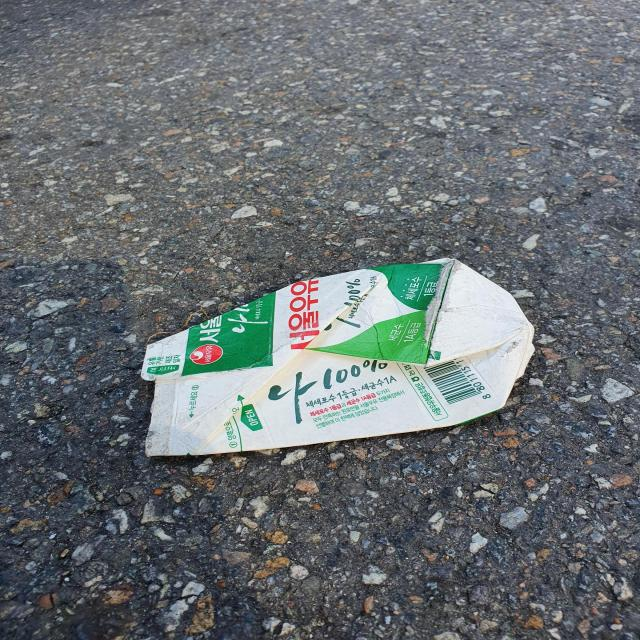paperpack: (140, 259, 535, 456)
